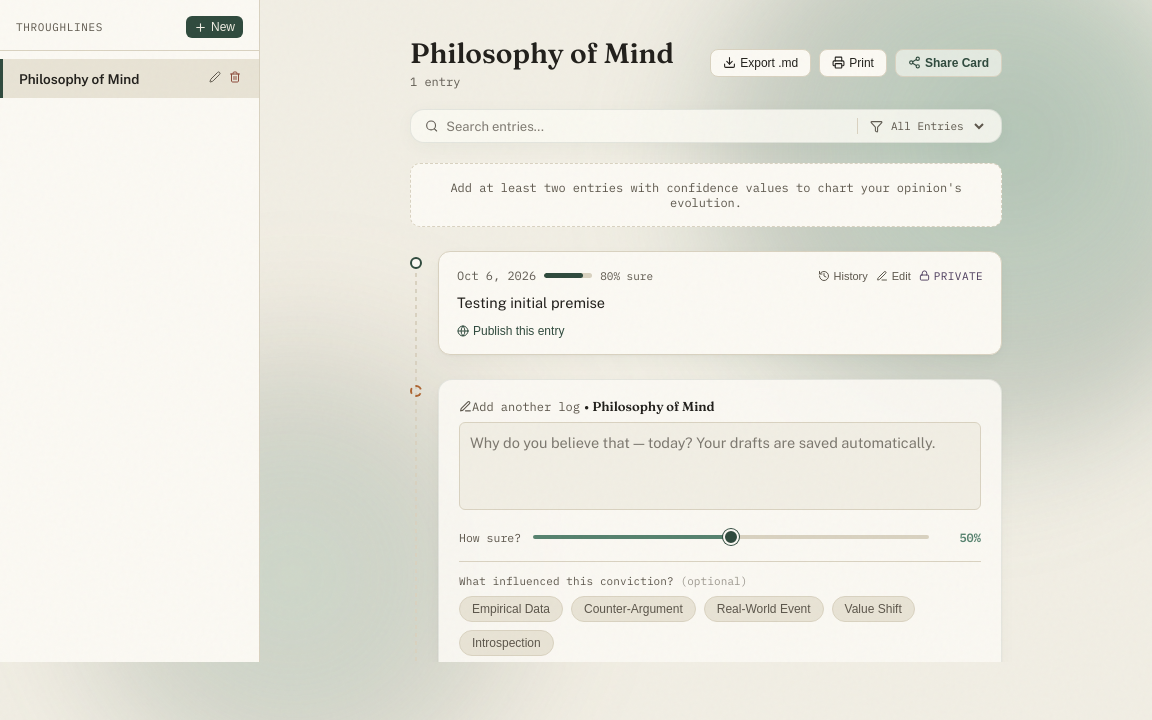
Test: Dashboard Component › renders workspace, shows topic title in EntryComposer, and does NOT render AI Evolution Synthesis
The image size is (1152, 720).
Expected: the text "Philosophy of Mind" is shown, [19,70,139,86]
Expected: the text box with placeholder "Why do you believe that" is shown, [459,422,981,510]
# Verify "+ New" input has explicit ink color styling
Click the button "New" at (214, 27), box [186,16,243,38]
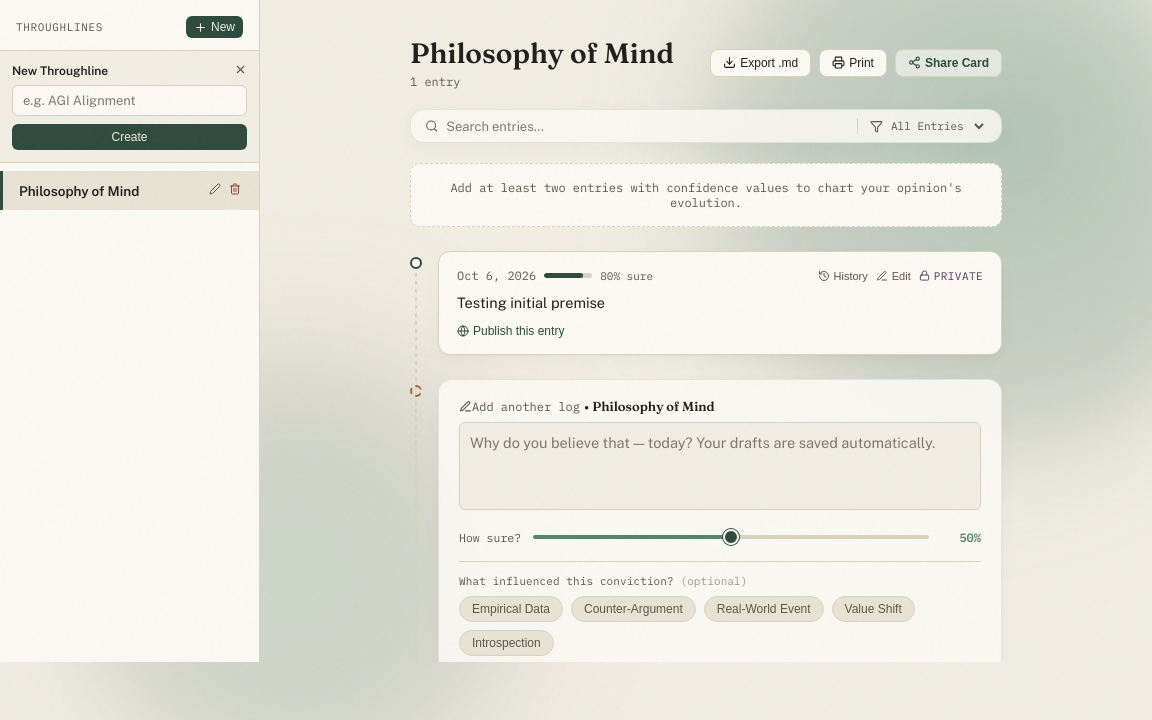
Now the field with placeholder "e.g. AGI Alignment" is shown, box [12,85,247,116]
